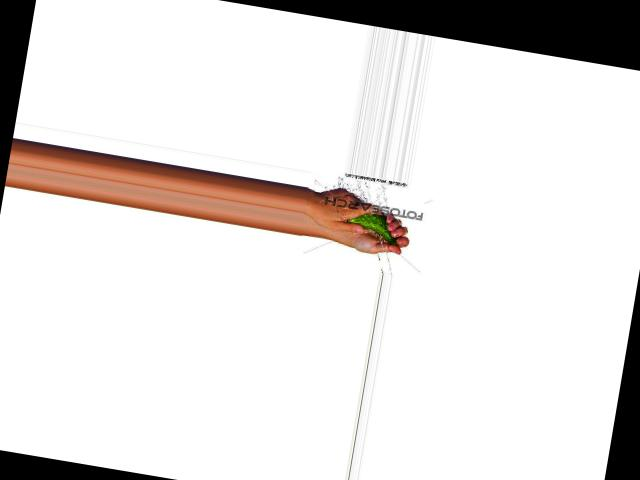cucumber: (342, 207, 402, 245)
